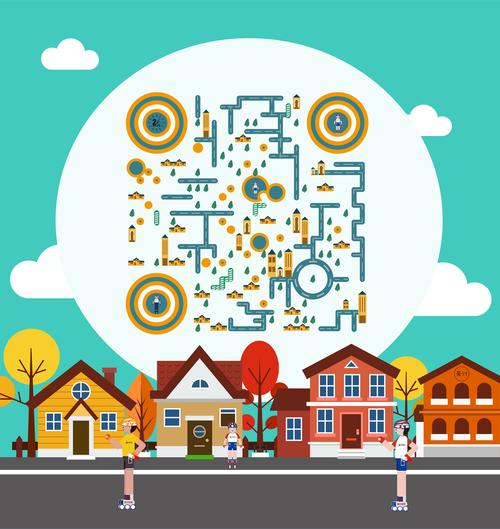QRCode: (123, 91, 379, 336)
